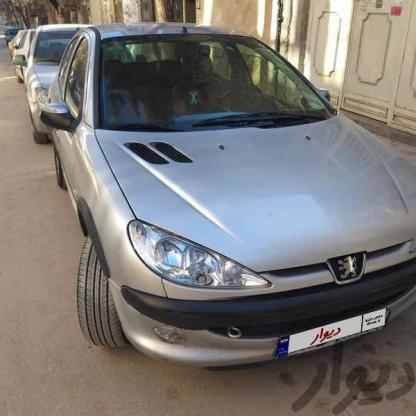Car: (48, 12, 416, 361), (29, 16, 138, 142)
